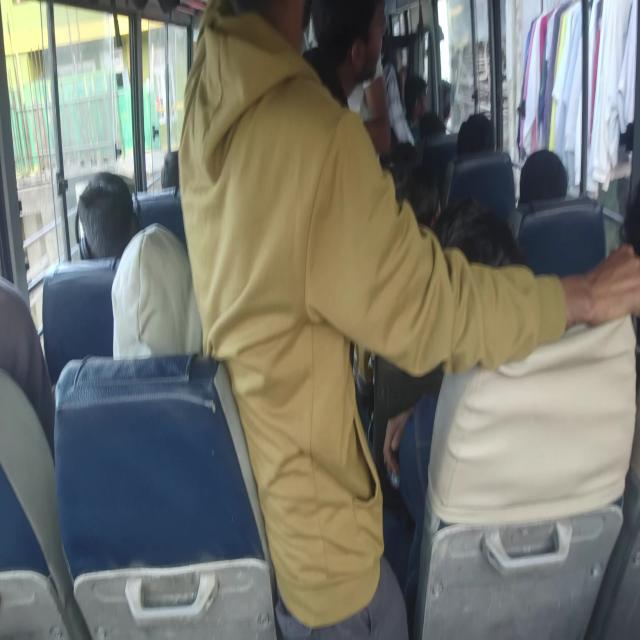person: (0, 236, 81, 604), (231, 0, 302, 303), (302, 1, 384, 160), (111, 224, 202, 358), (445, 203, 513, 309), (67, 166, 139, 255), (518, 136, 590, 224), (404, 75, 441, 146), (418, 133, 458, 193), (456, 113, 495, 155), (160, 150, 180, 190), (75, 207, 82, 249)
